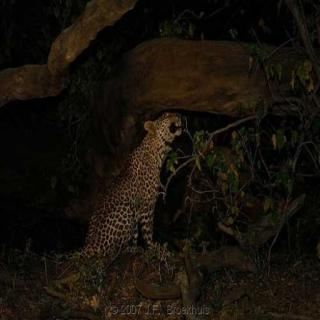Leopard: (70, 97, 202, 300)
